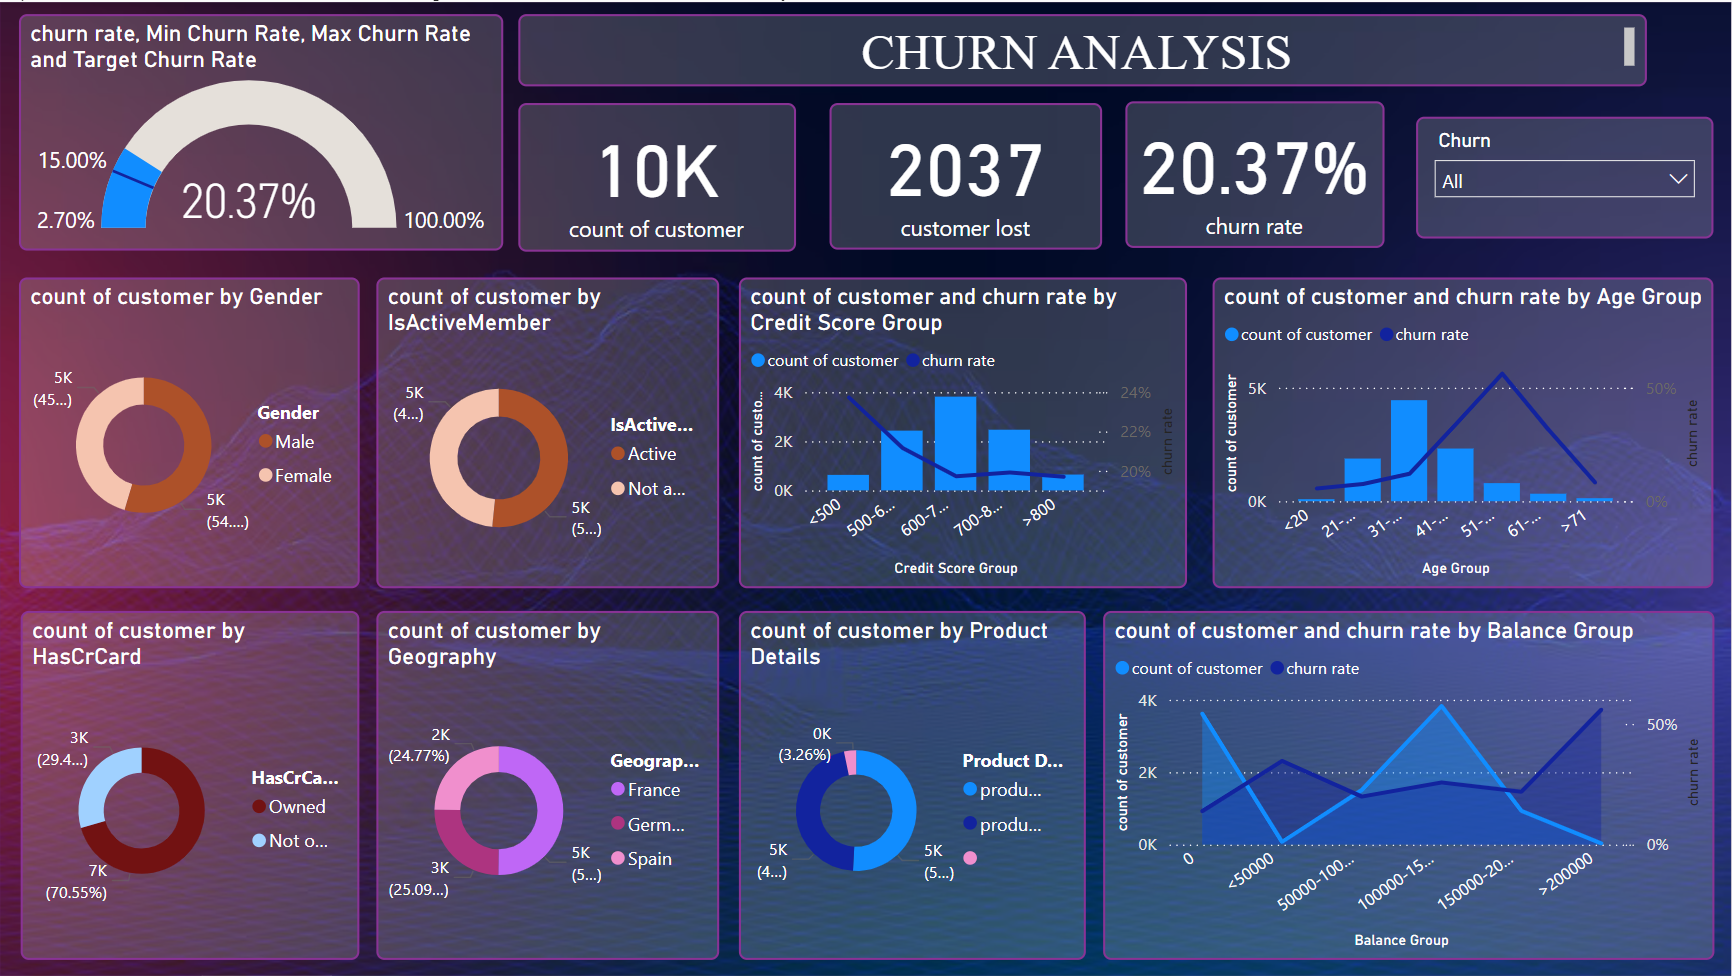

What the dashboard file says about the page in this screenshot:
{"tool":"powerbi","page":{"name":"Page 1","canvas":[1280,720],"ordinal":0},"visuals":[{"type":"card","fields":{"Values":["data.count of customer"]},"box":[383.3,75,205,110],"z":1000},{"type":"card","fields":{"Values":["data.customer lost"]},"box":[613.3,75,201.7,108.3],"z":2000},{"type":"card","fields":{"Values":["data.churn rate"]},"box":[831.7,73.3,191.7,108.3],"z":3000},{"type":"gauge","fields":{"Y":["data.churn rate"],"MinValue":["data.Min Churn Rate"],"MaxValue":["data.Max Churn Rate"],"TargetValue":["data.Target Churn Rate"]},"box":[13.3,8.3,358.3,175],"z":4000},{"type":"donutChart","fields":{"Y":["data.count of customer"],"Category":["data.Gender"]},"box":[13.3,203.3,251.7,230],"z":5000},{"type":"donutChart","fields":{"Y":["data.count of customer"],"Category":["data.IsActiveMember"]},"box":[278.3,203.3,253.3,230],"z":6000},{"type":"donutChart","fields":{"Y":["data.count of customer"],"Category":["data.HasCrCard"]},"box":[15,450,250,258.3],"z":7000},{"type":"donutChart","fields":{"Y":["data.count of customer"],"Category":["data.Geography"]},"box":[278.3,450,253.3,258.3],"z":8000},{"type":"lineClusteredColumnComboChart","fields":{"Y2":["data.churn rate"],"Y":["data.count of customer"],"Category":["Age Group.Age Group"]},"box":[896.7,203.3,370,230],"z":9000},{"type":"donutChart","fields":{"Y":["data.count of customer"],"Category":["data.Product Details"]},"box":[546.7,450,256.7,258.3],"z":10000},{"type":"lineStackedColumnComboChart","fields":{"Y":["data.count of customer"],"Y2":["data.churn rate"],"Category":["Credit groupe.Credit Score Group"]},"box":[546.7,203.3,331.7,230],"z":11000},{"type":"areaChart","fields":{"Category":["Balance group.Balance Group"],"Y":["data.count of customer"],"Y2":["data.churn rate"]},"box":[815,450,451.7,258.3],"z":12000},{"type":"textbox","box":[383.3,0,830,63.3],"z":13000},{"type":"slicer","fields":{"Values":["data.Churn"]},"box":[1046.7,85,220,90],"z":14000}]}

Visuals, with their boxes in screenshot pixels (x1, y1, x2, y2), scaled from the page's 1280x720 canvas onto the 1732x976 screenshot:
card - data.count of customer: [left=519, top=102, right=796, bottom=251]
card - data.customer lost: [left=830, top=102, right=1103, bottom=248]
card - data.churn rate: [left=1125, top=99, right=1385, bottom=246]
gauge - data.churn rate x data.Min Churn Rate: [left=18, top=11, right=503, bottom=248]
donutChart - data.count of customer x data.Gender: [left=18, top=276, right=359, bottom=587]
donutChart - data.count of customer x data.IsActiveMember: [left=377, top=276, right=719, bottom=587]
donutChart - data.count of customer x data.HasCrCard: [left=20, top=610, right=359, bottom=960]
donutChart - data.count of customer x data.Geography: [left=377, top=610, right=719, bottom=960]
lineClusteredColumnComboChart - data.churn rate x data.count of customer: [left=1213, top=276, right=1714, bottom=587]
donutChart - data.count of customer x data.Product Details: [left=740, top=610, right=1087, bottom=960]
lineStackedColumnComboChart - data.count of customer x data.churn rate: [left=740, top=276, right=1189, bottom=587]
areaChart - Balance group.Balance Group x data.count of customer: [left=1103, top=610, right=1714, bottom=960]
textbox: [left=519, top=0, right=1642, bottom=86]
slicer - data.Churn: [left=1416, top=115, right=1714, bottom=237]
